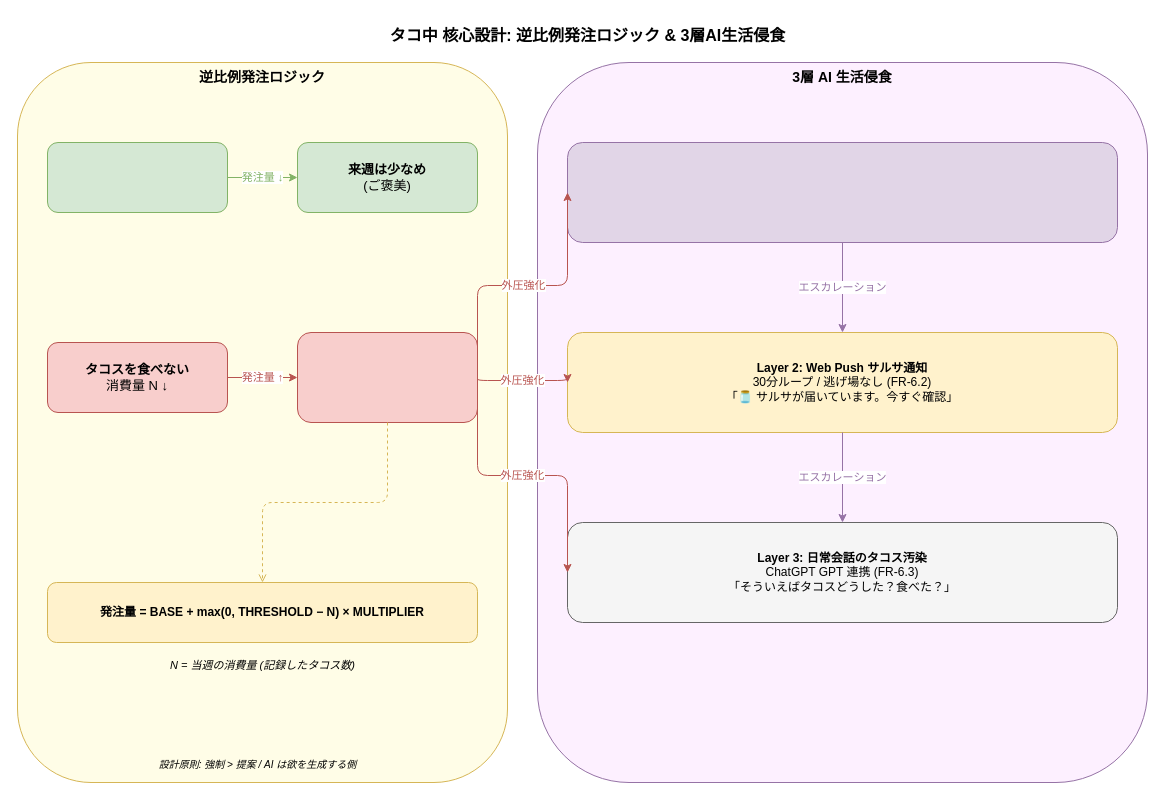
Some shapes in this 1165 by 800 pixel diagram are drawn without their labels. The centre of each missing label's shape, as x and y in pixels:
Layer 1: ダッシュボード煽り文 Amazon Bedrock 生成 (FR-6.1) 「今週もタコスだね？覚悟は？」: (x=842, y=192)
タコスを食べる 消費量 N ↑: (x=137, y=177)
来週は地獄 🌮 食べないほど増える (外圧発動): (x=387, y=377)
